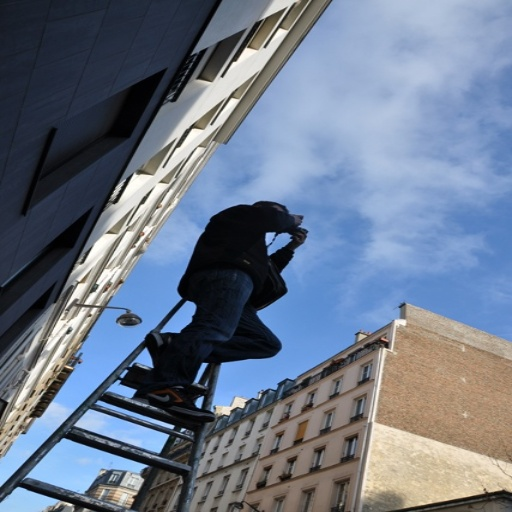hand: (290, 226, 312, 250), (290, 213, 305, 230)
